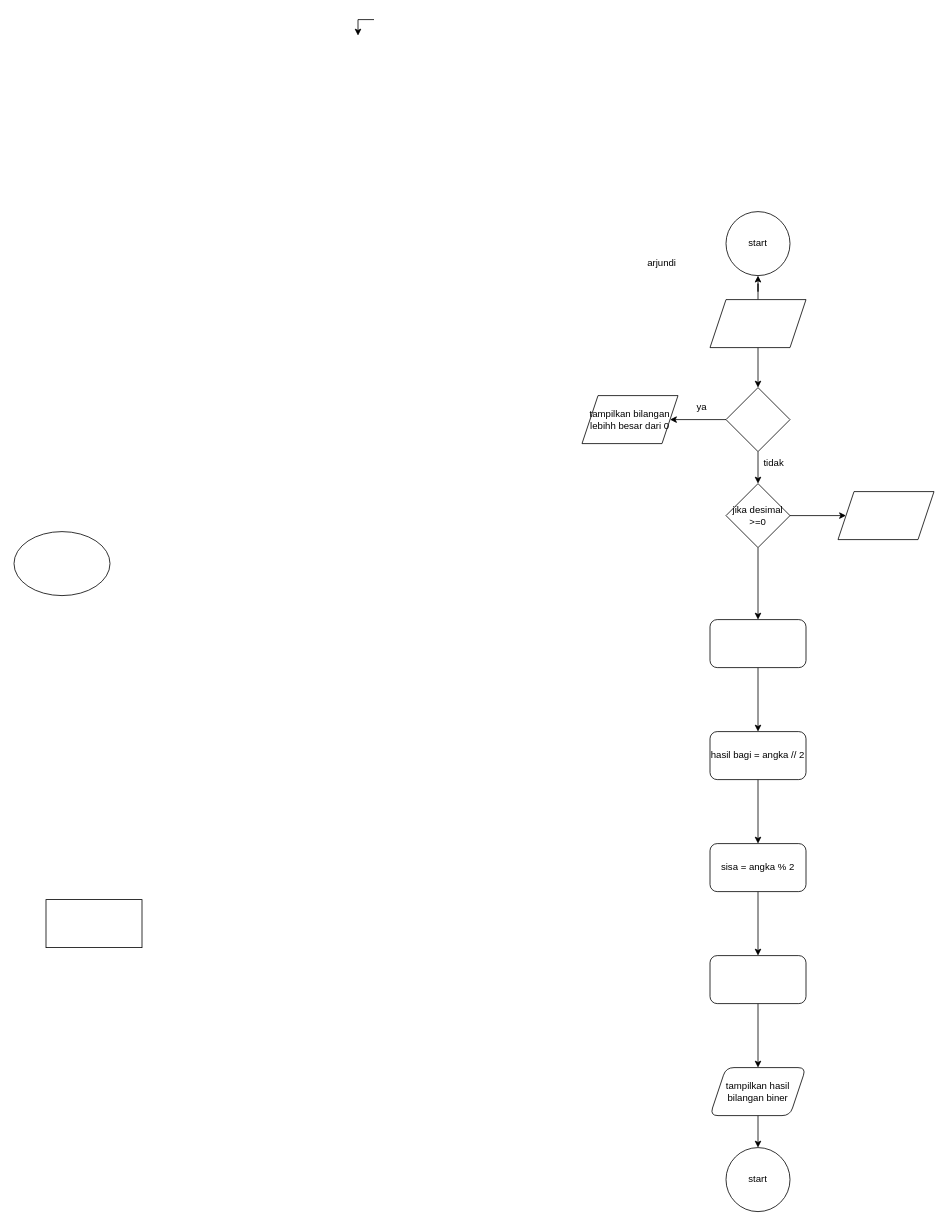
This 948x1226 diagram has some shape labels left out. The shapes that lost their labels are listed below. From the top down, each one's box as (x1, y1, x2, y2) in pixels, then its label:
(709, 299, 806, 348): input desimal
(725, 387, 790, 452): jika desimmal <0
(837, 491, 934, 540): tampilkan"0 dalam biner 0"
(709, 955, 806, 1004): angka = hasil bagi
